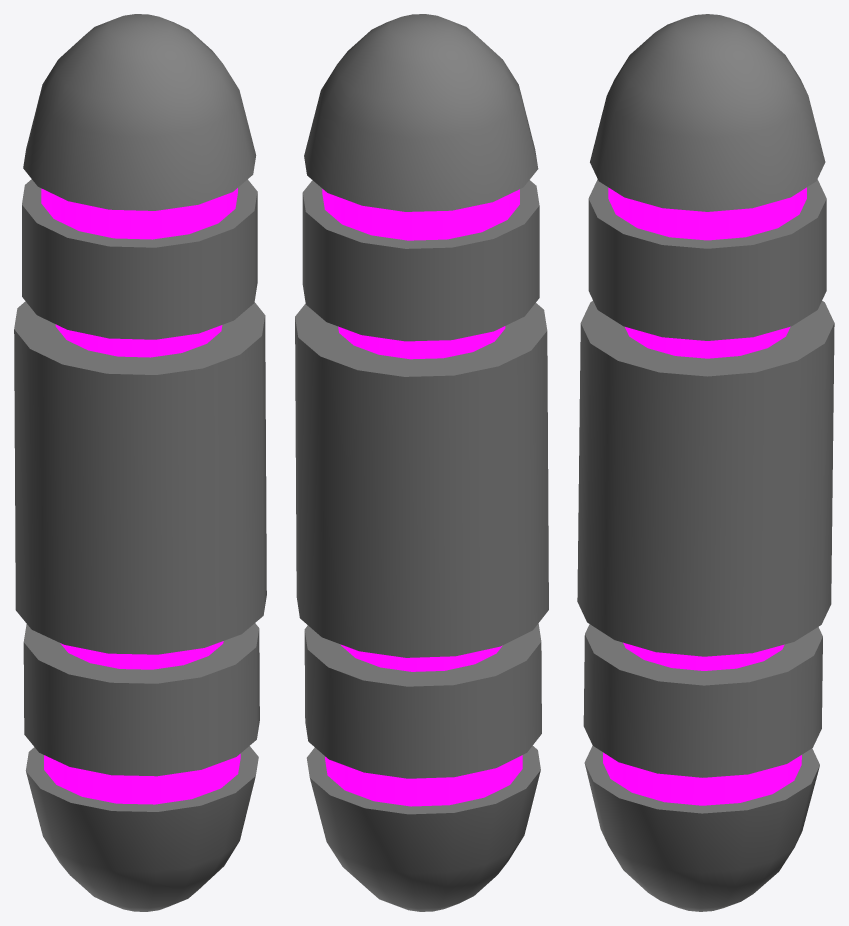
File: Bollard.fbx
3 renders of one model, left to right at view 1: azimuth 30°, elevation 25°; view 2: azimuth 150°, elevation 25°; view 3: azimuth 270°, elevation 25°, orthographic.
Parts seen in each view (by area): view 1: Bollard; view 2: Bollard; view 3: Bollard.
Part boxes in pixels (x1,y1,x2,y2): Bollard: (14, 14, 266, 911); Bollard: (295, 14, 548, 911); Bollard: (577, 14, 834, 911).
Size of the model in its own units: 73.86 by 281 by 74.82.
